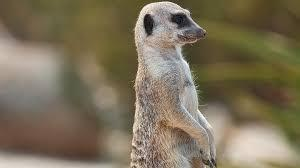Non_Gorille: (118, 0, 239, 168)
